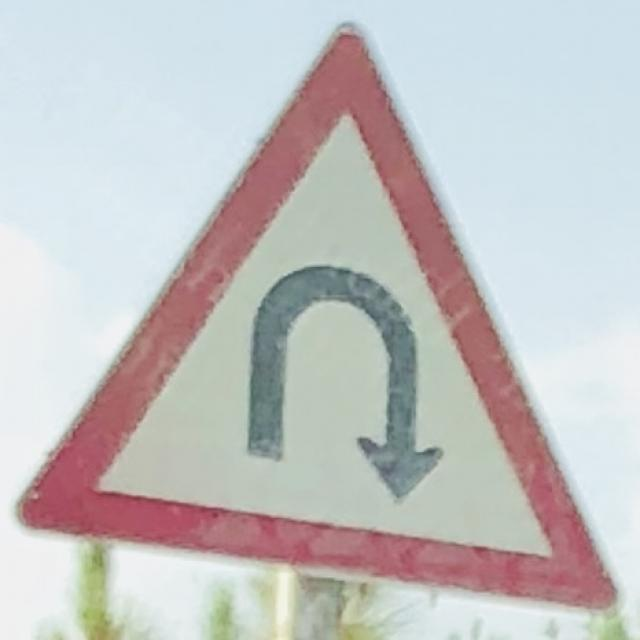u turn: (27, 31, 614, 612)
